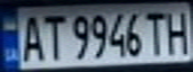4: (106, 9, 127, 58)
6: (124, 8, 148, 56)
9: (66, 10, 90, 61), (87, 10, 109, 58)
A: (15, 11, 45, 62)
H: (163, 7, 193, 55)
T: (39, 10, 66, 61), (142, 8, 169, 56)
